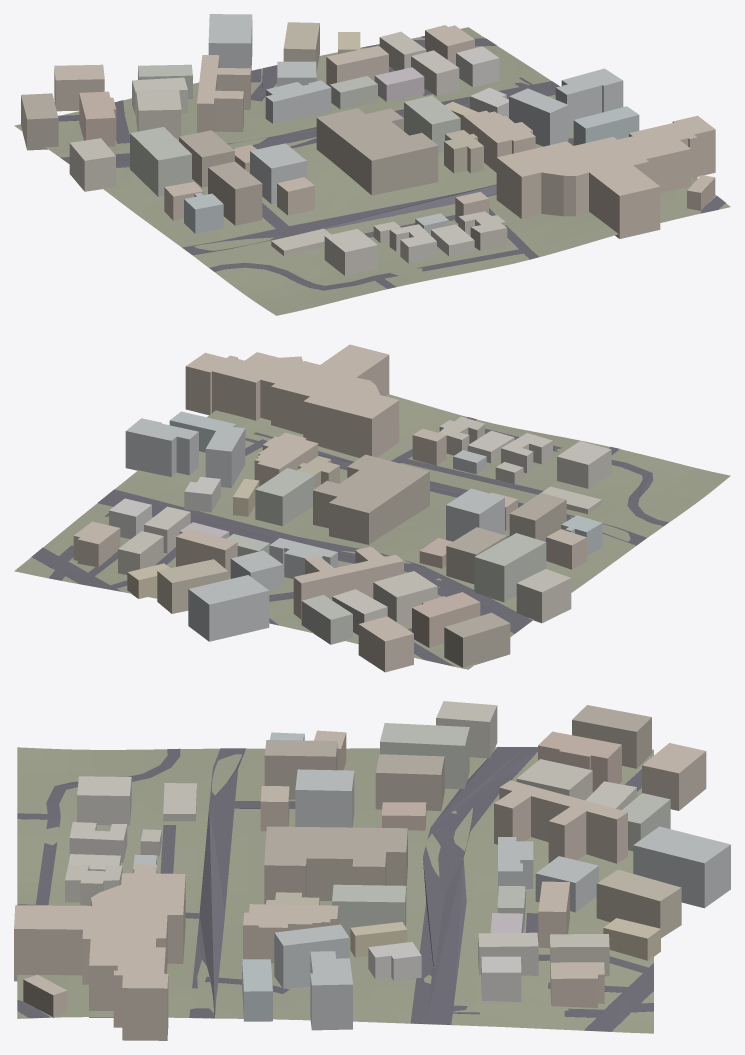
File: chunk_1_0.glb
The picture shows the model from 3 angles, top to bottom: view 1: azimuth 30°, elevation 25°; view 2: azimuth 150°, elevation 25°; view 3: azimuth 270°, elevation 25°; orthographic projection. The views are drawn at different scales.
Visible parts, largest first — view 1: geometry_47, geometry_34, geometry_27, geometry_38, geometry_11, geometry_56, geometry_2, geometry_33, geometry_28, geometry_1, geometry_8, geometry_19 (+37 smaller); view 2: geometry_47, geometry_34, geometry_27, geometry_19, geometry_38, geometry_33, geometry_11, geometry_51, geometry_14, geometry_6, geometry_36, geometry_29 (+38 smaller); view 3: geometry_47, geometry_34, geometry_27, geometry_38, geometry_49, geometry_56, geometry_19, geometry_51, geometry_20, geometry_11, geometry_3, geometry_26 (+39 smaller).
Part boxes in pixels (bbox=[...]): geometry_47: bbox=[14, 27, 730, 315]; geometry_34: bbox=[496, 115, 715, 238]; geometry_27: bbox=[316, 108, 438, 195]; geometry_38: bbox=[197, 55, 250, 132]; geometry_11: bbox=[130, 127, 191, 196]; geometry_56: bbox=[182, 184, 496, 255]; geometry_2: bbox=[208, 161, 262, 225]; geometry_33: bbox=[555, 68, 623, 129]; geometry_28: bbox=[509, 88, 568, 146]; geometry_1: bbox=[463, 110, 535, 172]; geometry_8: bbox=[265, 80, 331, 123]; geometry_19: bbox=[208, 14, 252, 78]; geometry_47: bbox=[14, 394, 730, 669]; geometry_34: bbox=[185, 344, 399, 457]; geometry_27: bbox=[313, 454, 429, 544]; geometry_19: bbox=[188, 575, 269, 641]; geometry_38: bbox=[293, 546, 403, 619]; geometry_33: bbox=[125, 418, 198, 476]; geometry_11: bbox=[474, 533, 546, 602]; geometry_51: bbox=[108, 489, 532, 628]; geometry_14: bbox=[444, 612, 510, 667]; geometry_6: bbox=[255, 468, 314, 526]; geometry_36: bbox=[358, 616, 413, 672]; geometry_29: bbox=[516, 569, 571, 623]; geometry_47: bbox=[17, 747, 653, 1033]; geometry_34: bbox=[14, 873, 185, 1040]; geometry_27: bbox=[264, 826, 407, 904]; geometry_38: bbox=[494, 780, 627, 863]; geometry_49: bbox=[425, 747, 537, 1024]; geometry_56: bbox=[189, 748, 245, 1018]; geometry_19: bbox=[633, 826, 730, 908]; geometry_51: bbox=[410, 746, 524, 1023]; geometry_20: bbox=[596, 869, 681, 937]; geometry_11: bbox=[380, 723, 469, 789]; geometry_3: bbox=[375, 754, 444, 811]; geometry_26: bbox=[295, 769, 354, 827].
Size of the model in its own units: 275 by 26.93 by 282.
